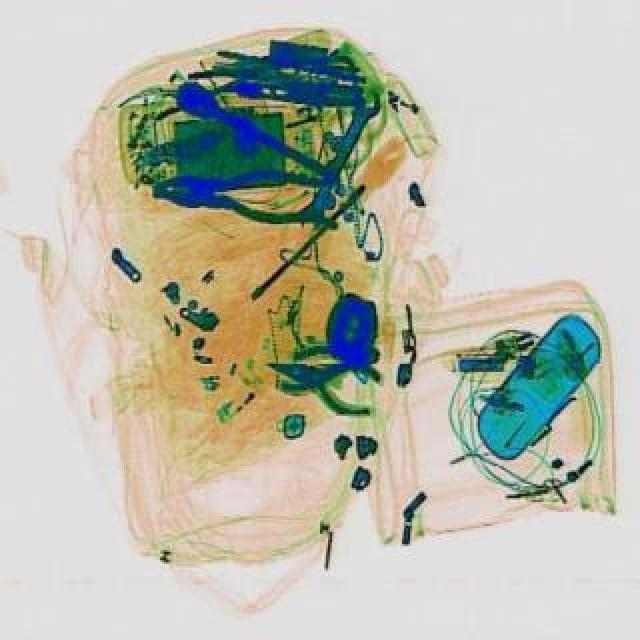scissors: (288, 86, 384, 230)
wrench: (150, 158, 340, 226), (256, 336, 384, 422), (270, 334, 382, 390)
